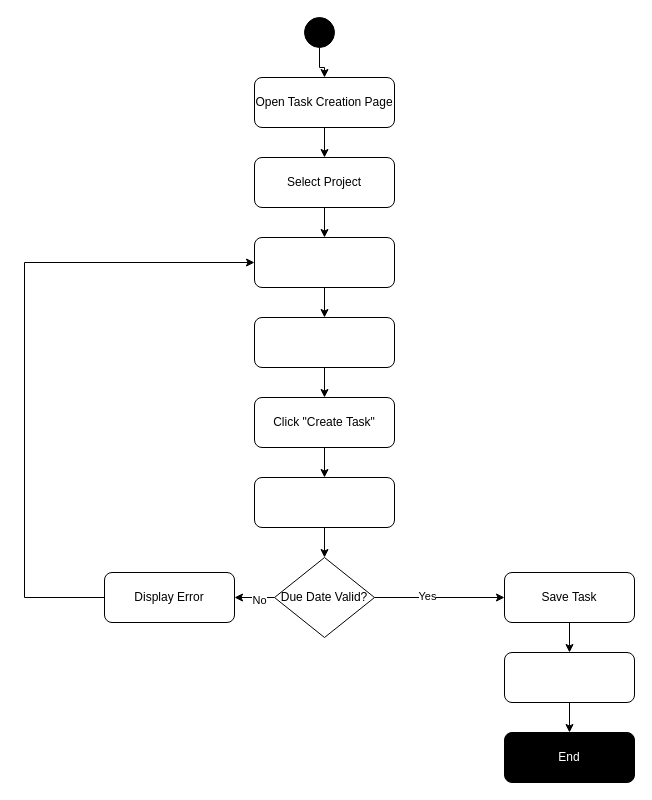
Image size: 652x800. Some labels were removed from this diagram. Here are the shapes that lost their labels. From the top down, the box of each, then its label:
(254, 236, 394, 288): Enter Task Details
(254, 316, 394, 368): Assign to User
(254, 476, 394, 528): Validate Input
(504, 652, 634, 702): Notify Assigned User
